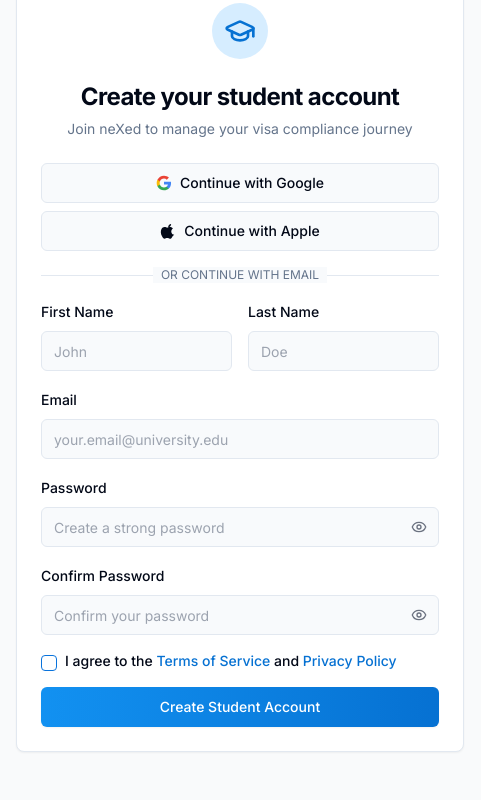
Test: Signup Page › validates required fields and shows errors when submitting empty form
(page scrolled)
What coordinates should you click on to do the following:
click the button "Create Student Account"
I would click on:
 (240, 707)
Its box is [41,687,439,727].
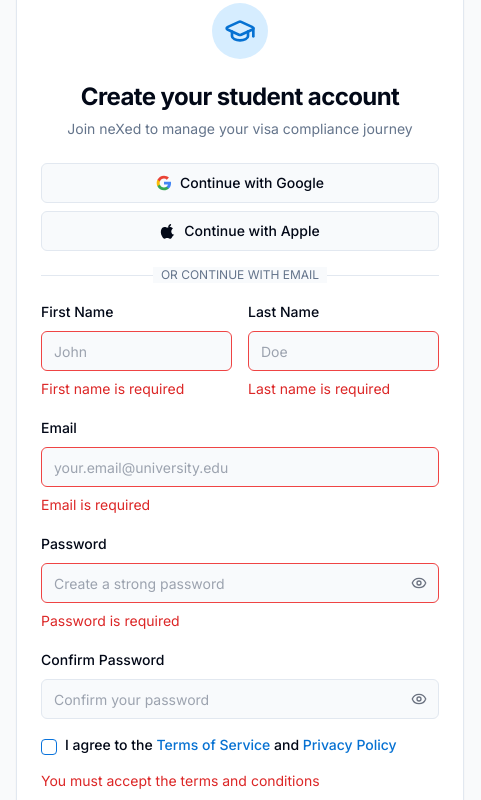
Expected: the text "First name is required" is shown, [41,380,184,397]
Expected: the text "Last name is required" is shown, [248,380,390,397]
Expected: the text "Email is required" is shown, [41,496,150,513]
